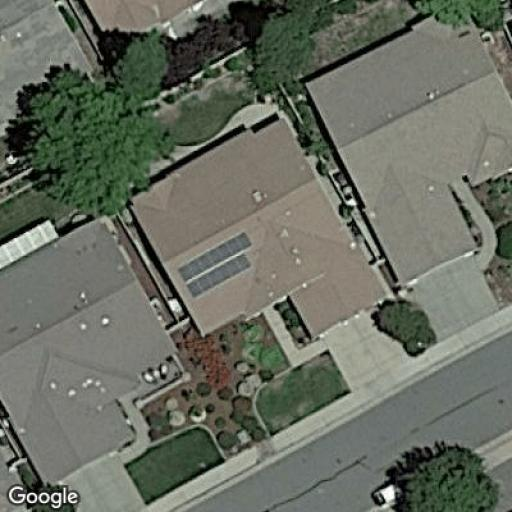solar-panel: (174, 231, 256, 298)
